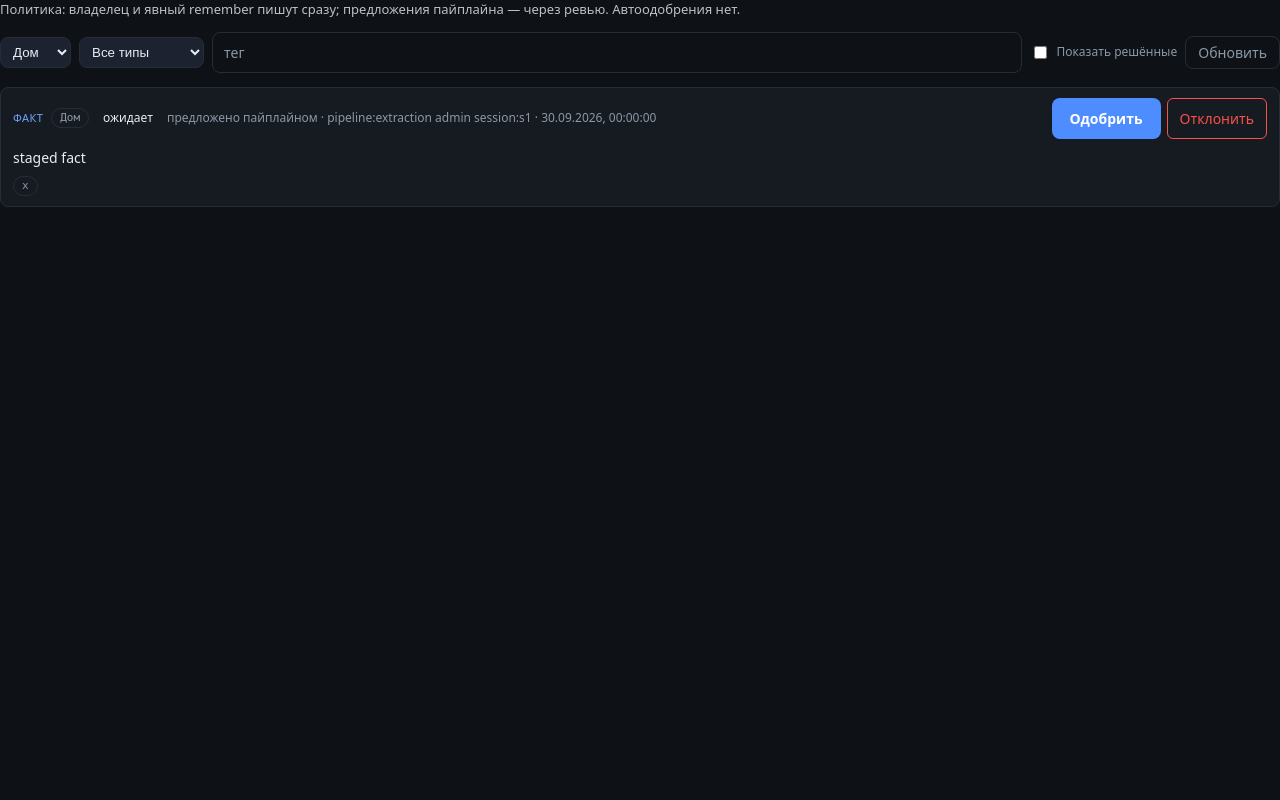
MemoryReviewQueue › does not report a decision when the approve hits invalid-status
Click the button with test id "memory-review-approve:p-1" at point(1106, 118), box [1052,98,1161,138]
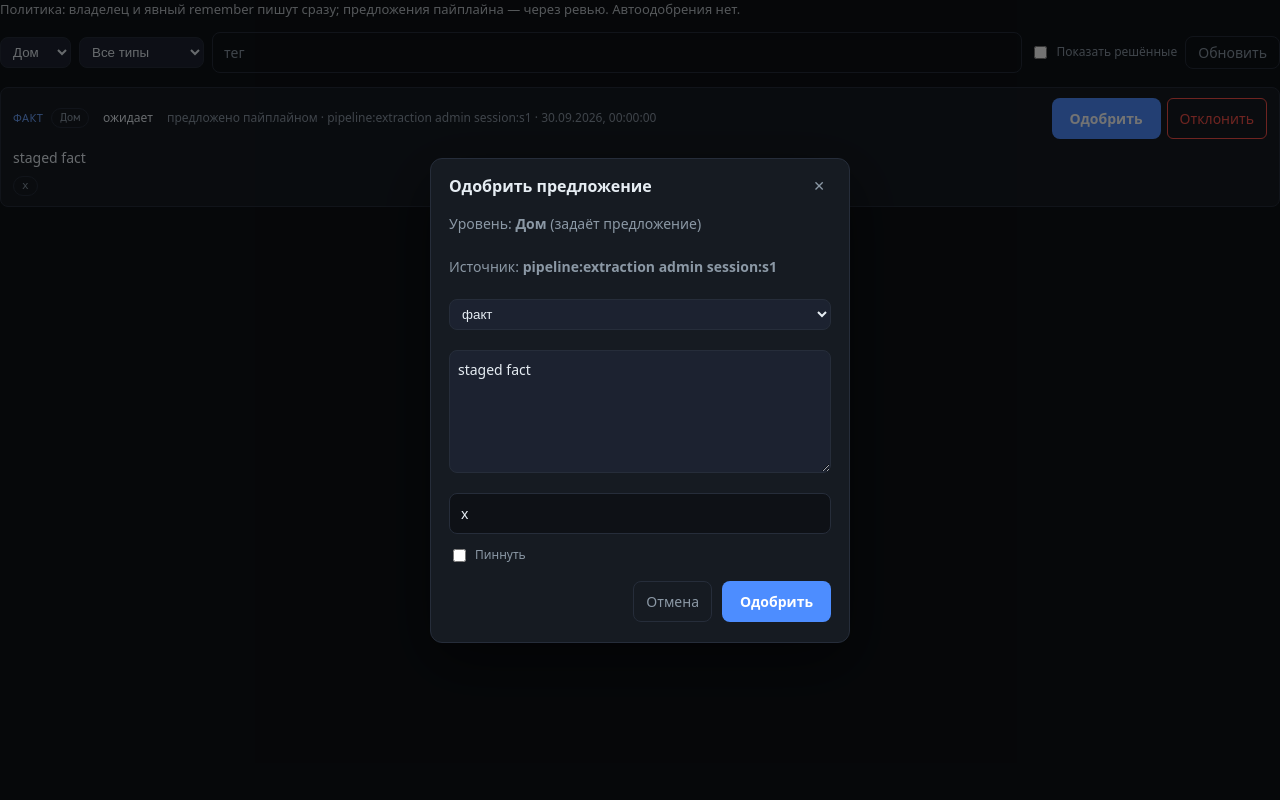
Click the button with test id "memory-review-form-approve" at point(776, 601), box [722,580,831,622]
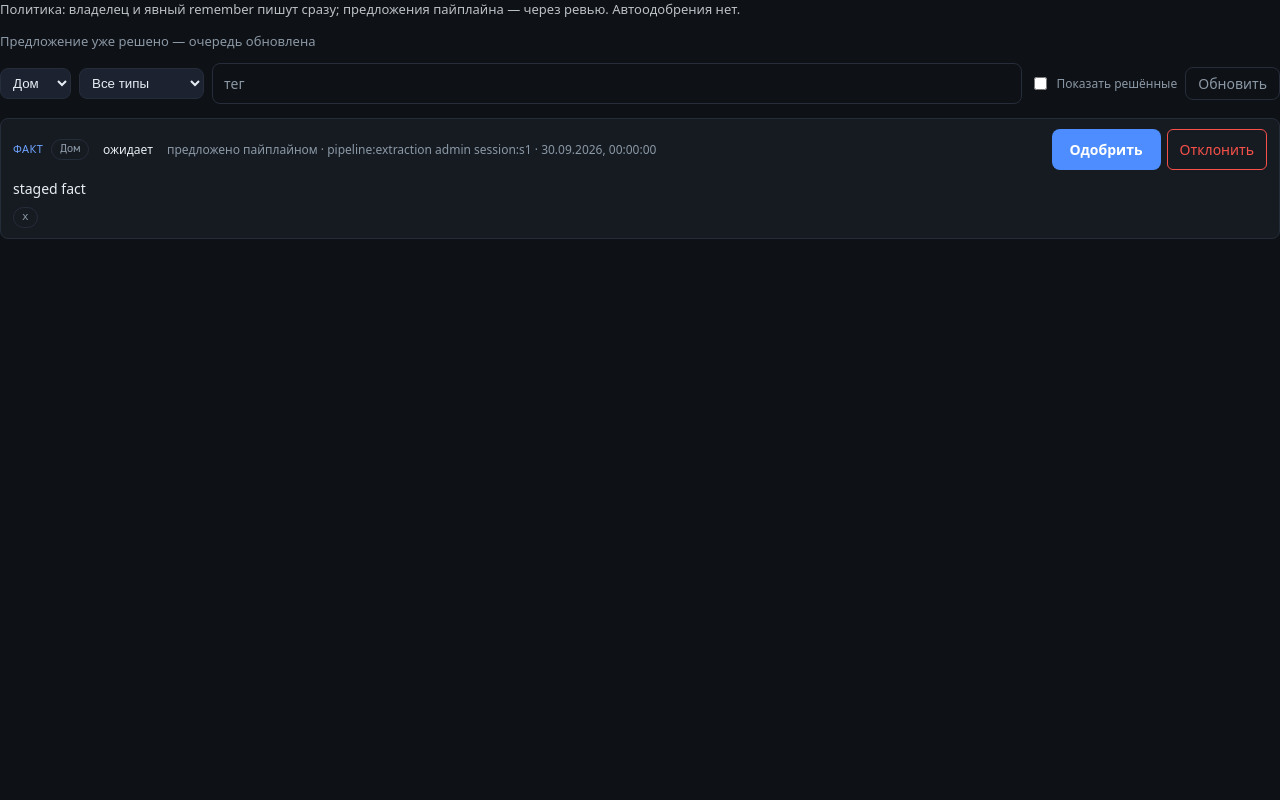
Result: the button with test id "memory-review-form-approve" is gone
Result: the message with test id "memory-review-notice" reads "Предложение уже решено — очередь обновлена" at [0,32,316,50]
